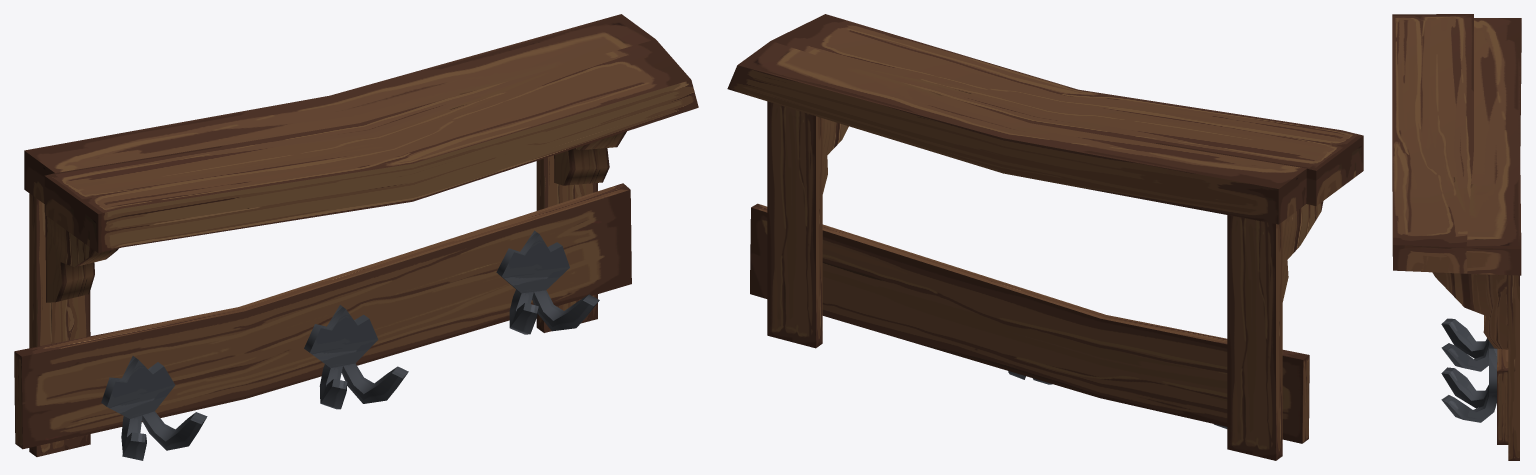
File: SM_PROP_shelf_interior_03.fbx
The picture shows the model from 3 angles, left to right: view 1: azimuth 30°, elevation 25°; view 2: azimuth 150°, elevation 25°; view 3: azimuth 270°, elevation 25°; orthographic projection. The views are drawn at different scales.
Parts seen in each view (by area): view 1: SM_PROP_shelf_interior_03; view 2: SM_PROP_shelf_interior_03; view 3: SM_PROP_shelf_interior_03.
Part boxes in pixels (left/top/right/bottom): SM_PROP_shelf_interior_03: left=14, top=14, right=698, bottom=460; SM_PROP_shelf_interior_03: left=727, top=14, right=1363, bottom=460; SM_PROP_shelf_interior_03: left=1392, top=14, right=1521, bottom=460.
Size of the model in its own units: 150 by 70.63 by 34.9.
